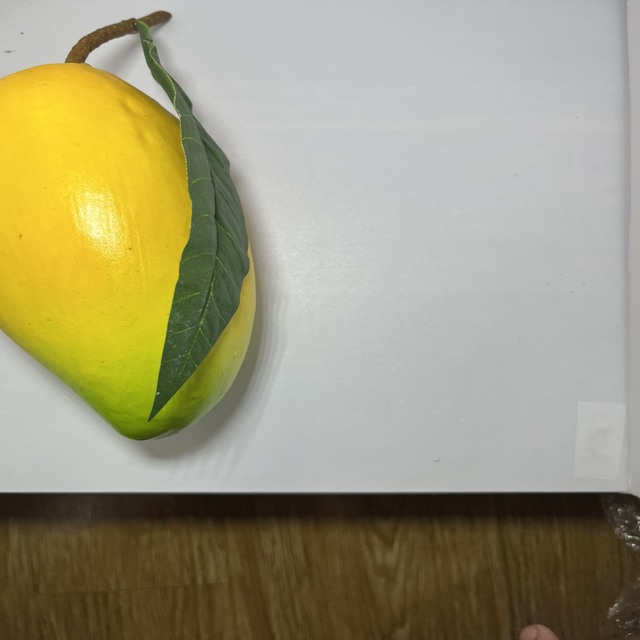Xoai: (0, 50, 262, 447)
